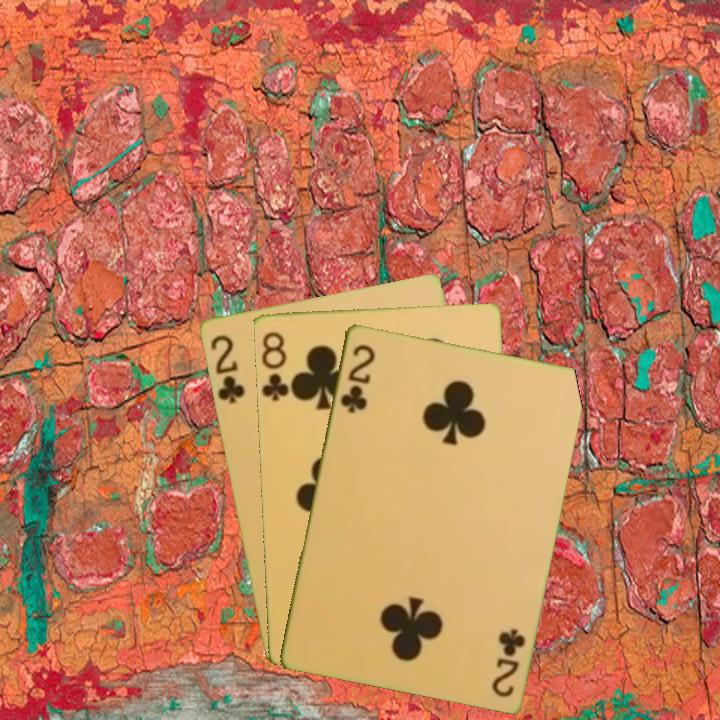2c: (206, 331, 248, 407), (336, 340, 378, 416), (488, 624, 528, 700)
8c: (257, 328, 294, 403)
